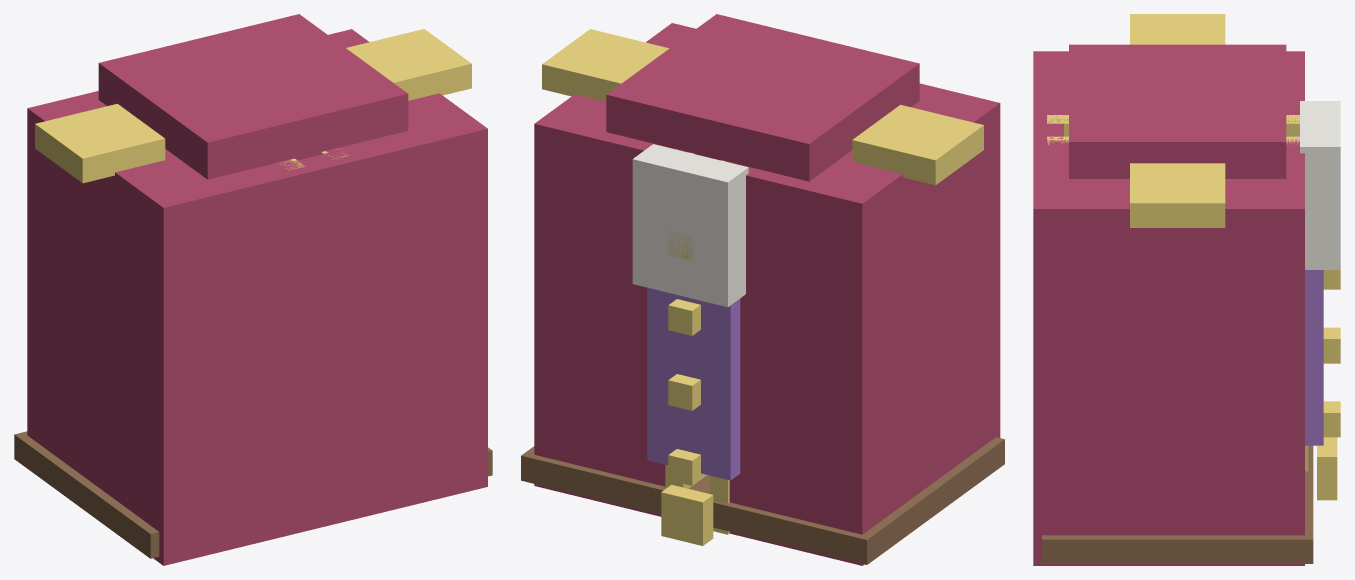
Rendered from bardo_tronco.glb.
The picture shows the model from 3 angles, left to right: view 1: azimuth 30°, elevation 25°; view 2: azimuth 150°, elevation 25°; view 3: azimuth 270°, elevation 25°; orthographic projection.
Parts seen in each view (by area): view 1: bardo_tronco; view 2: bardo_tronco; view 3: bardo_tronco.
Boxes of the visible parts, x1,y1,x2,y2 form: bardo_tronco: (14, 14, 492, 565); bardo_tronco: (521, 14, 1004, 565); bardo_tronco: (1033, 14, 1340, 565).
Size of the model in its own units: 0.66 by 0.645 by 0.4525.
